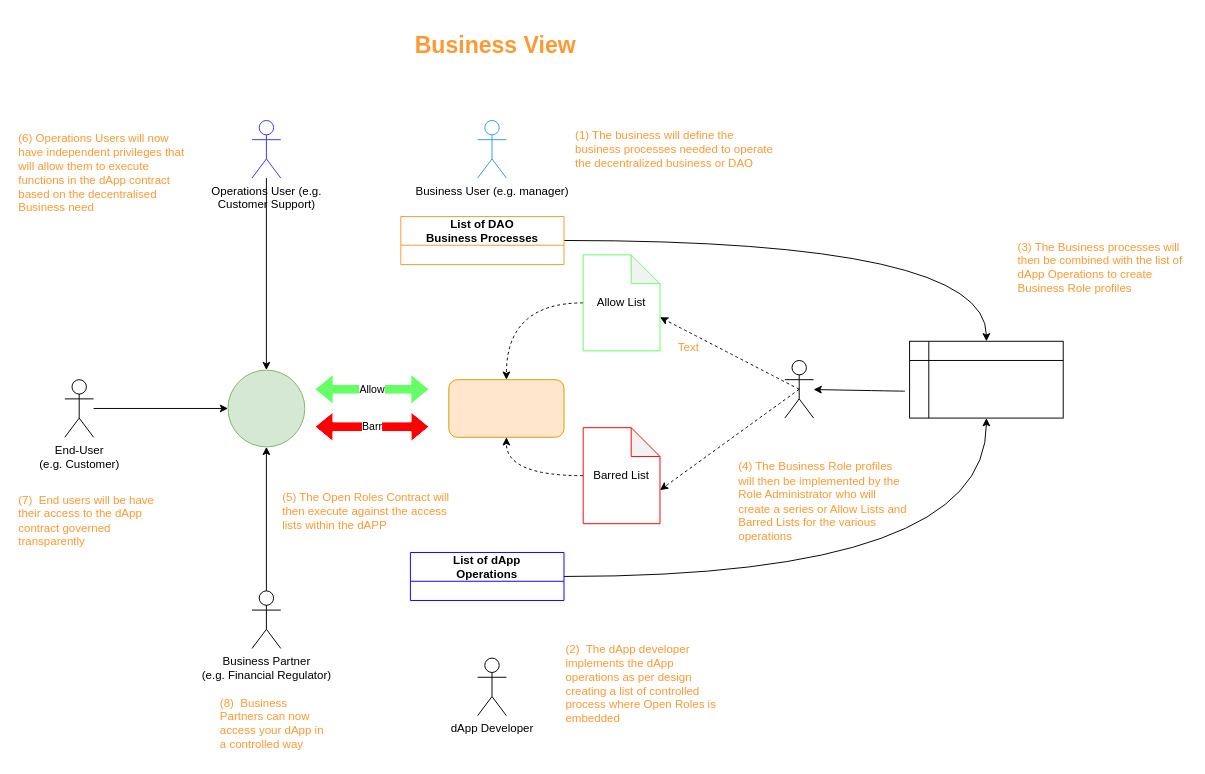
This 1205x774 diagram has some shape labels left out. Each missing label, with the centre of its shape:
"Business Role Profiles" belongs at (x=986, y=379).
"dApp Contract" belongs at (x=266, y=408).
"Open Roles Contract" belongs at (x=506, y=408).
"Role Administrator (e.g. Sys Admin)" belongs at (x=799, y=389).
